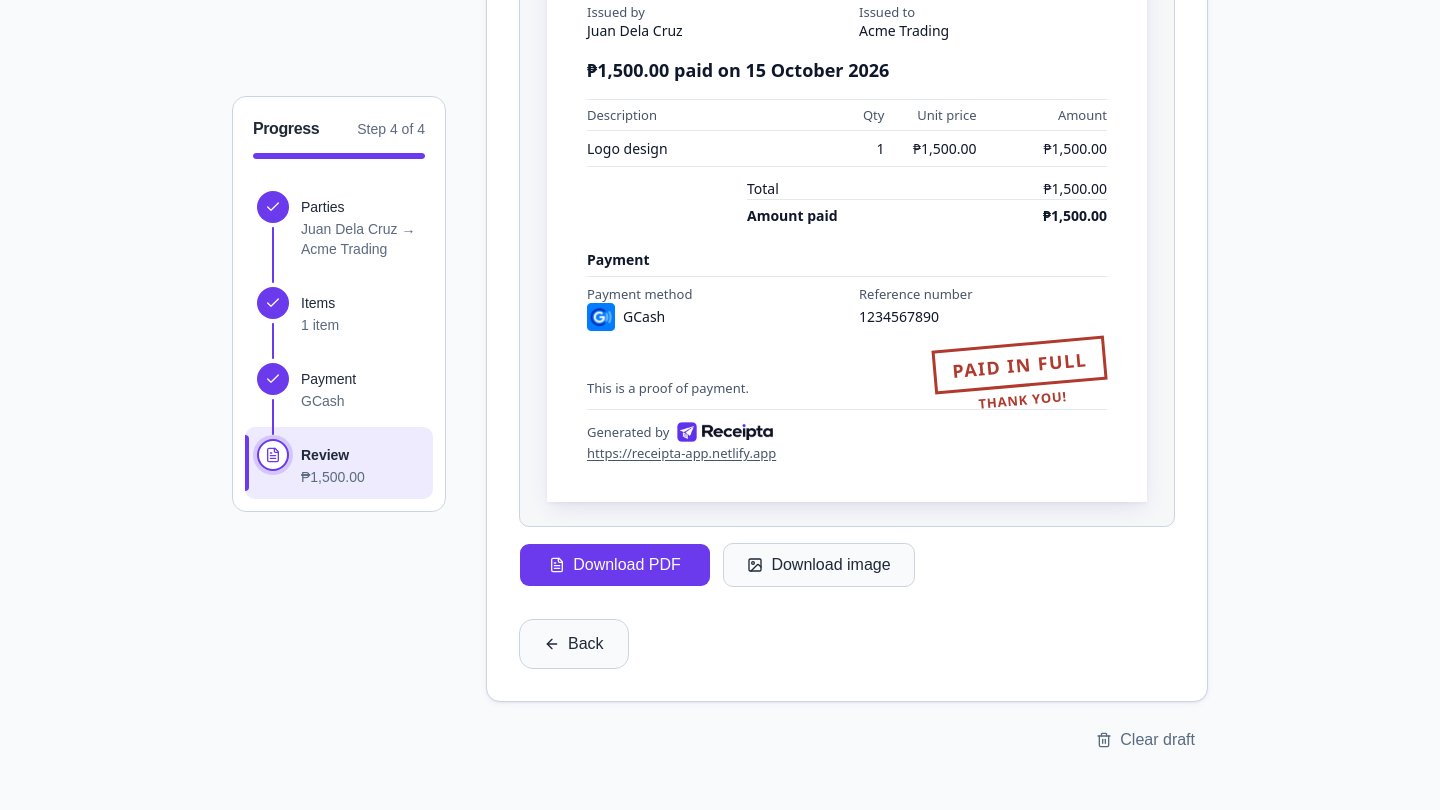
Test: the offer to start a new receipt › appears after a successful image download
(page scrolled)
Click the button "Download image" at x=819, y=565, box [723,543,915,587]
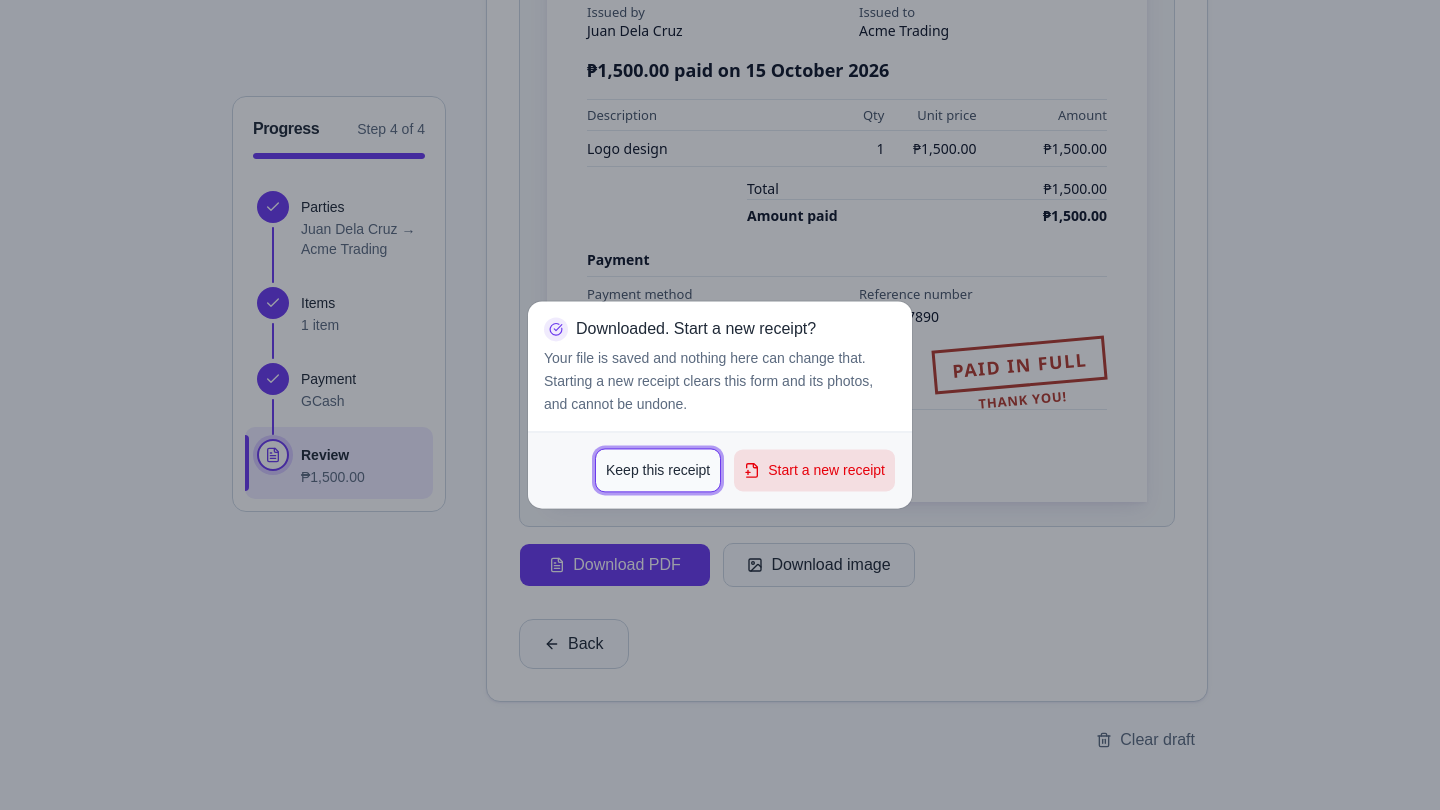
Expected: the dialog is shown, [528,301,912,509]
Expected: the dialog shows "Your file is saved", [544,350,873,412]
